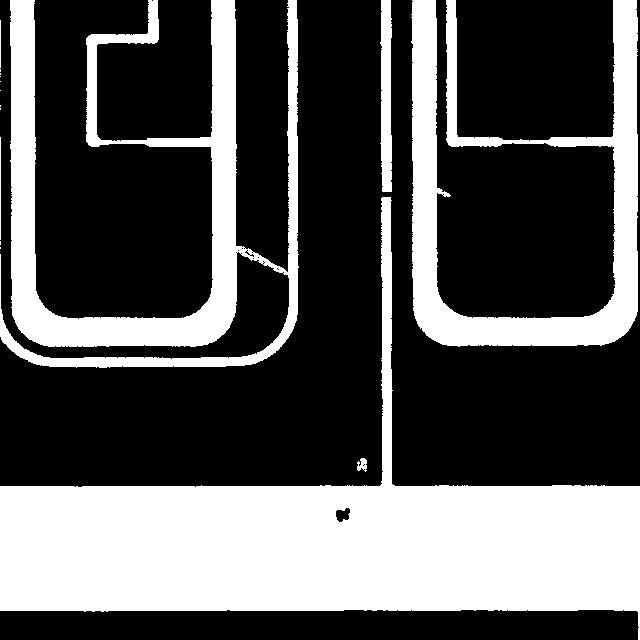copper: (326, 498, 359, 531)
mousebite: (424, 178, 460, 206)
open: (218, 235, 298, 284)
pin-hole: (347, 448, 376, 481)
short: (369, 182, 402, 206)
